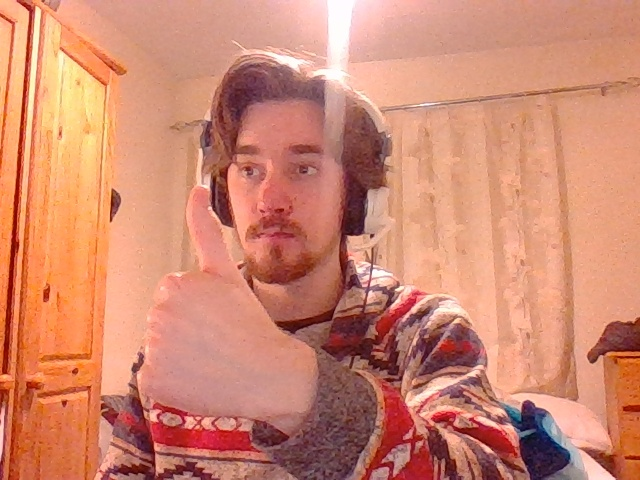good: (138, 184, 262, 413)
